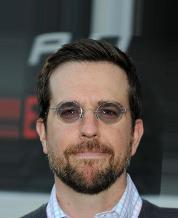face: (58, 100, 120, 162)
